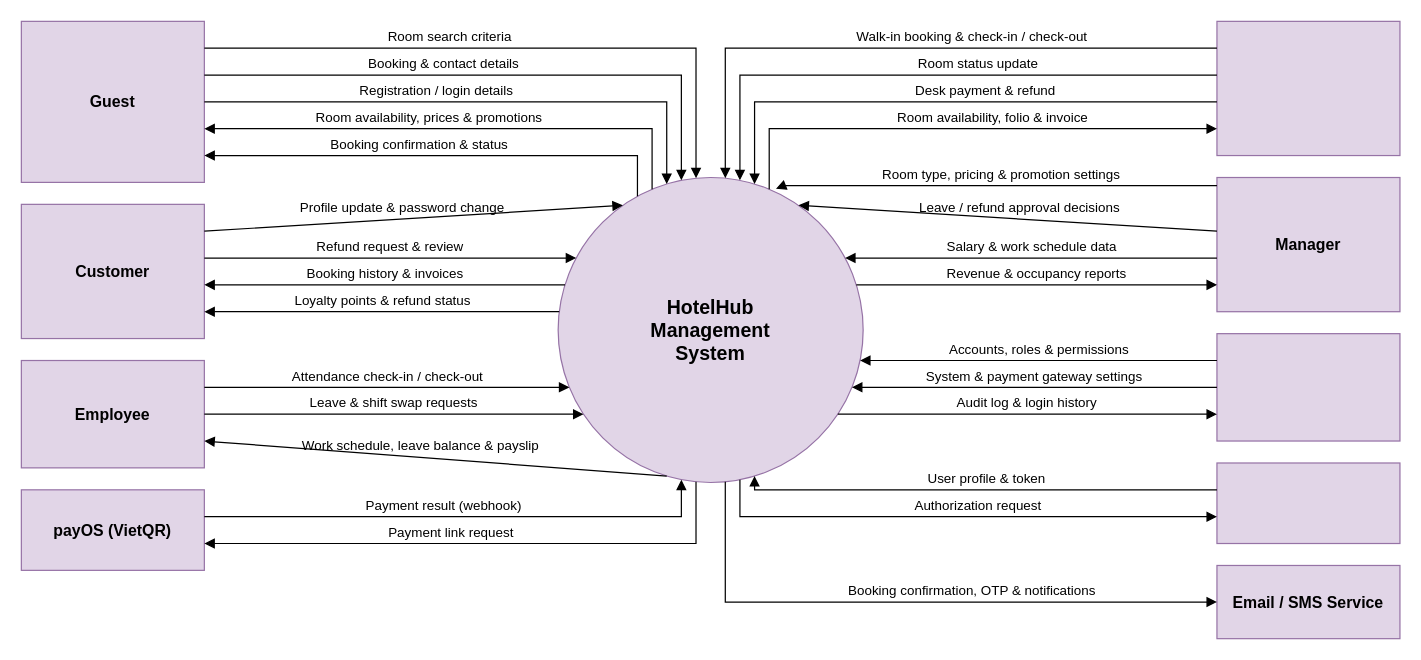
This 1421x660 diagram has some shape labels left out. The shapes that lost their labels are listed below. From the top down, each one's box as (x1, y1, x2, y2) in pixels, then its label:
(1216, 20, 1400, 156): Receptionist
(1216, 332, 1400, 441): Admin
(1216, 462, 1400, 544): Google OAuth
